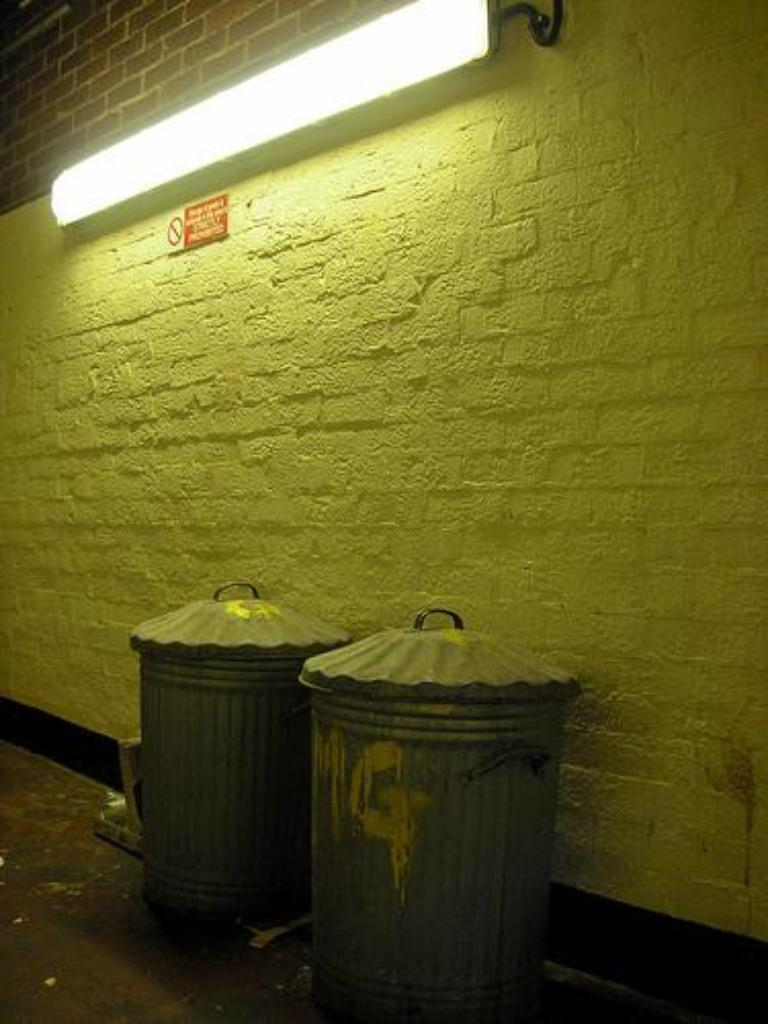dustbin: (133, 540, 604, 1024)
